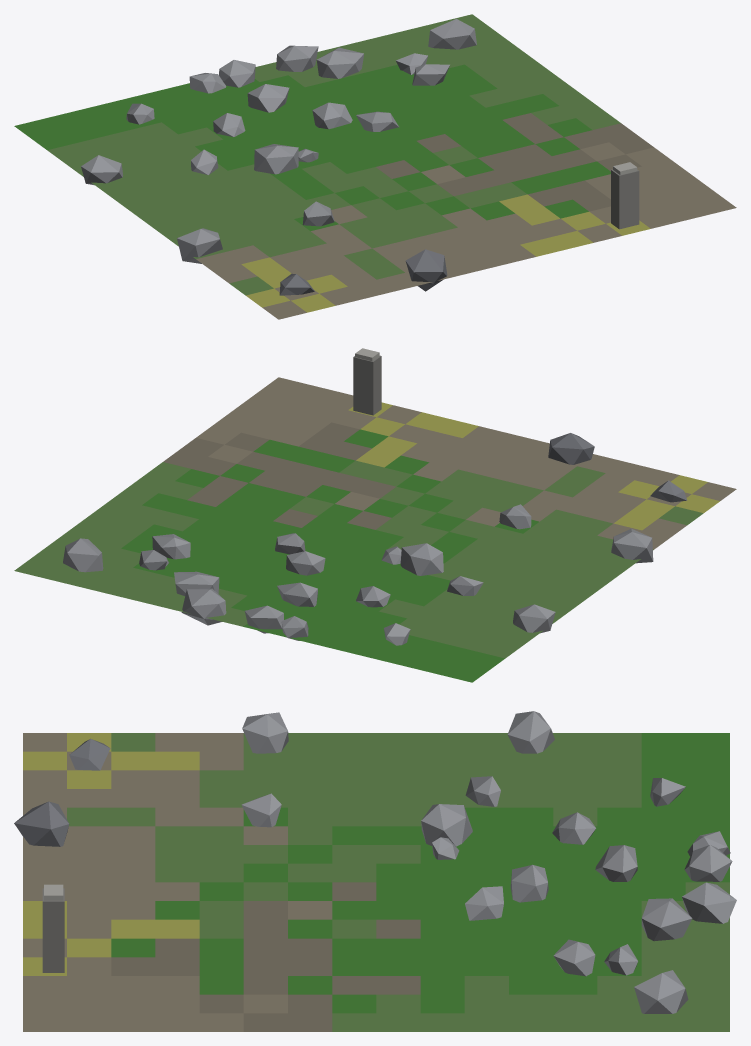
Rendered from chunk_9_16.glb.
The picture shows the model from 3 angles, top to bottom: view 1: azimuth 30°, elevation 25°; view 2: azimuth 150°, elevation 25°; view 3: azimuth 270°, elevation 25°; orthographic projection. The views are drawn at different scales.
Visible parts, largest first — view 1: chunk_9_16; view 2: chunk_9_16; view 3: chunk_9_16.
Part boxes in pixels (x1,y1,x2,y2): chunk_9_16: [14, 14, 736, 319]; chunk_9_16: [14, 348, 736, 682]; chunk_9_16: [14, 711, 736, 1031].
Size of the model in its own units: 16.22 by 2.4 by 16.36.
